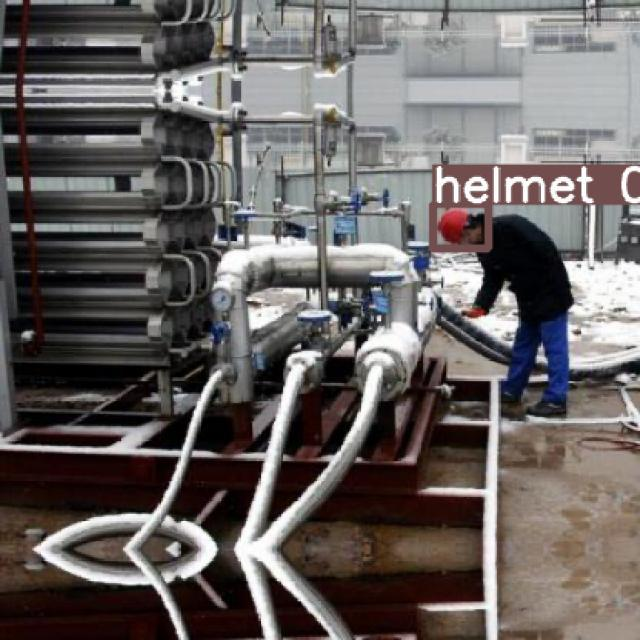Helmet: (437, 207, 467, 244)
